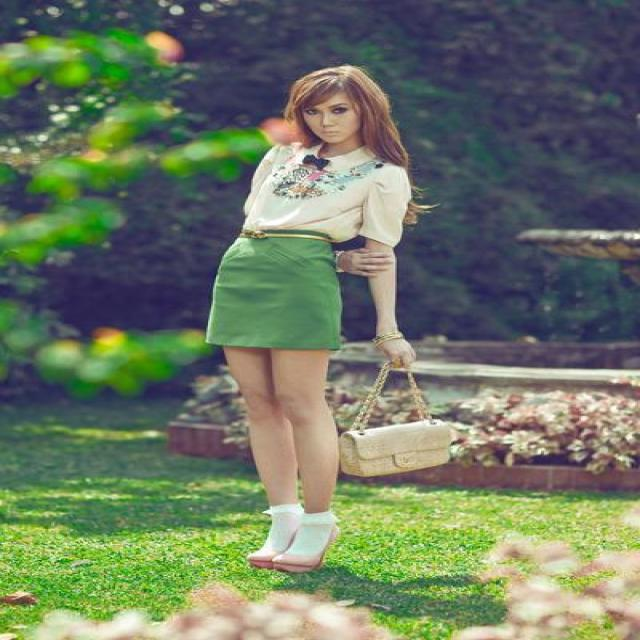bag: (346, 415, 464, 476)
shirt: (243, 143, 411, 242)
shoe: (250, 557, 316, 577)
skirt: (213, 227, 347, 353)
